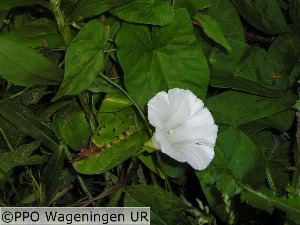haagwinde: (139, 86, 225, 175), (52, 14, 117, 107)
